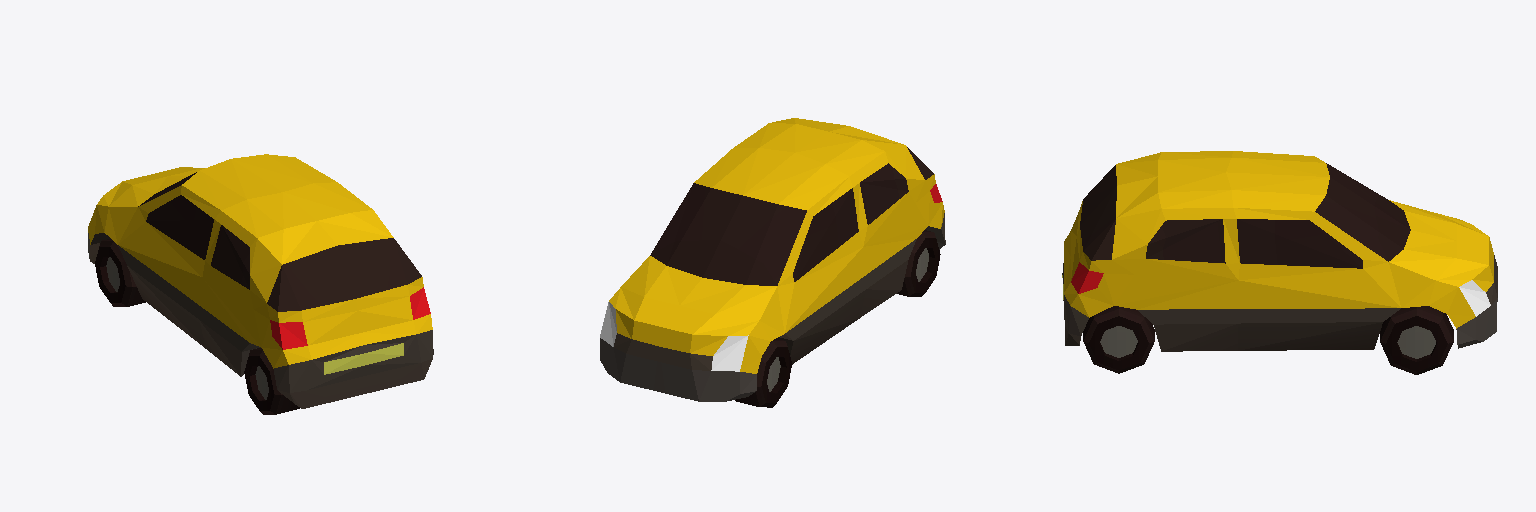
3 views of the same model, side by side, from view 1: azimuth 30°, elevation 25°; view 2: azimuth 150°, elevation 25°; view 3: azimuth 270°, elevation 25° (orthographic).
Parts seen in each view (by area): view 1: Car_Carrosserie, Car_Base; view 2: Car_Carrosserie, Car_Base; view 3: Car_Carrosserie, Car_Base.
Boxes of the visible parts, x1=… form: Car_Carrosserie: x1=88, y1=154, x2=432, y2=368; Car_Base: x1=88, y1=172, x2=433, y2=414; Car_Carrosserie: x1=609, y1=118, x2=944, y2=373; Car_Base: x1=600, y1=147, x2=945, y2=407; Car_Carrosserie: x1=1064, y1=151, x2=1493, y2=328; Car_Base: x1=1062, y1=163, x2=1497, y2=374.
Bounding box in the file's own units: 1.94 × 1.98 × 4.67.
1 materials, 1 textured.